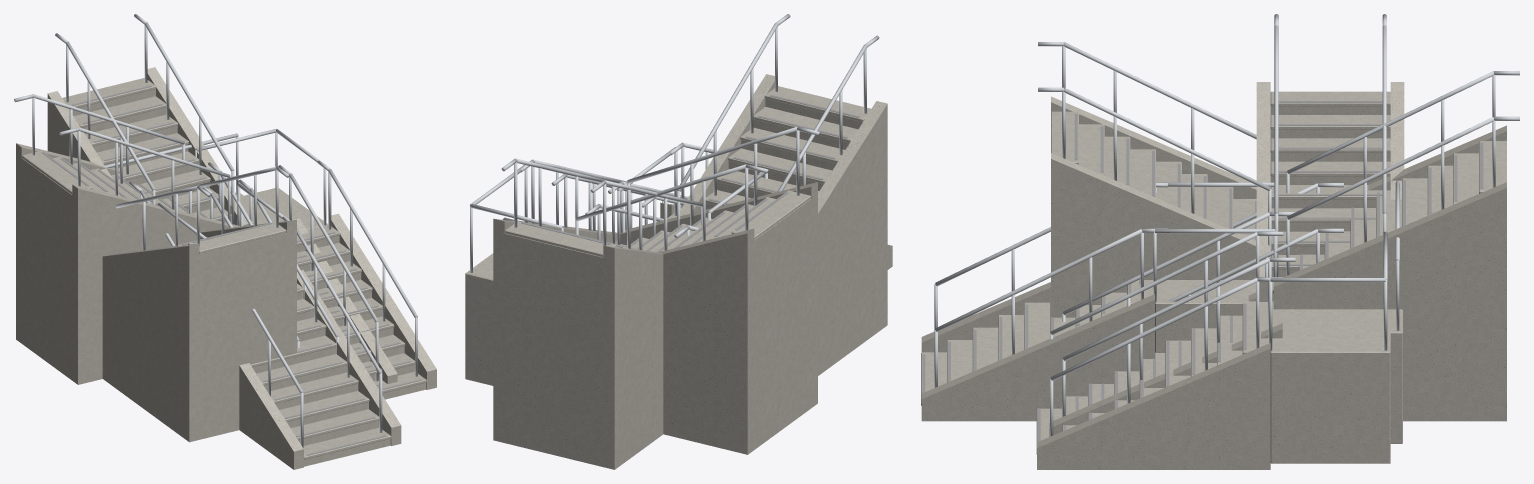
The model's file is demo-realistic.glb.
The picture shows the model from 3 angles, left to right: view 1: azimuth 30°, elevation 25°; view 2: azimuth 150°, elevation 25°; view 3: azimuth 270°, elevation 25°; orthographic projection. The views are drawn at different scales.
Visible parts, largest first — view 1: stair__demo__L__realistic, stair__demo__U__realistic, stair__demo__straight-landing__realistic, stair__demo__straight__realistic; view 2: stair__demo__L__realistic, stair__demo__straight-landing__realistic, stair__demo__U__realistic, stair__demo__straight__realistic; view 3: stair__demo__straight-landing__realistic, stair__demo__L__realistic, stair__demo__U__realistic, stair__demo__straight__realistic.
Boxes of the visible parts, left/top/right/bottom form: stair__demo__L__realistic: left=14, top=94, right=436, bottom=399; stair__demo__U__realistic: left=102, top=133, right=397, bottom=442; stair__demo__straight-landing__realistic: left=47, top=14, right=401, bottom=469; stair__demo__straight__realistic: left=129, top=162, right=253, bottom=245; stair__demo__L__realistic: left=465, top=126, right=819, bottom=454; stair__demo__straight-landing__realistic: left=493, top=142, right=892, bottom=469; stair__demo__U__realistic: left=502, top=14, right=887, bottom=375; stair__demo__straight__realistic: left=585, top=204, right=698, bottom=240; stair__demo__straight-landing__realistic: left=921, top=71, right=1519, bottom=421; stair__demo__L__realistic: left=1036, top=14, right=1404, bottom=469; stair__demo__U__realistic: left=1038, top=42, right=1402, bottom=443; stair__demo__straight__realistic: left=1169, top=183, right=1343, bottom=309.
Size of the model in its own units: 4.41 by 3.81 by 6.97.
Materials: 3 (1 with a texture image).
